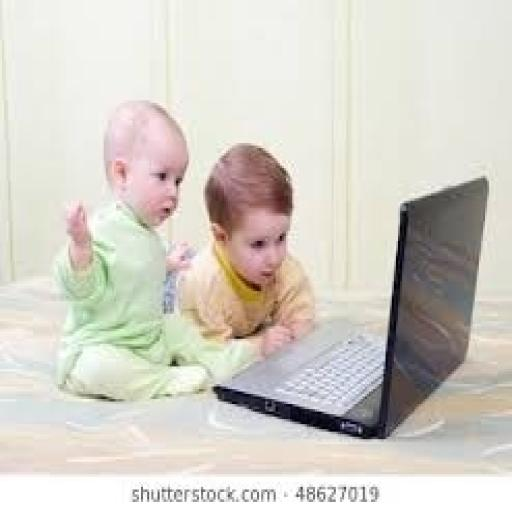using_laptop: (212, 171, 490, 439)
